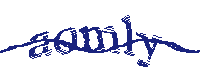a: (26, 29, 52, 58)
l: (121, 12, 136, 59)
m: (79, 25, 119, 54)
o: (51, 26, 77, 55)
y: (135, 31, 162, 69)
